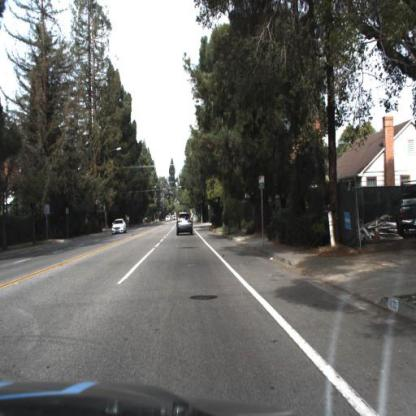car: (174, 209, 195, 240), (109, 213, 129, 239), (112, 220, 128, 236)
